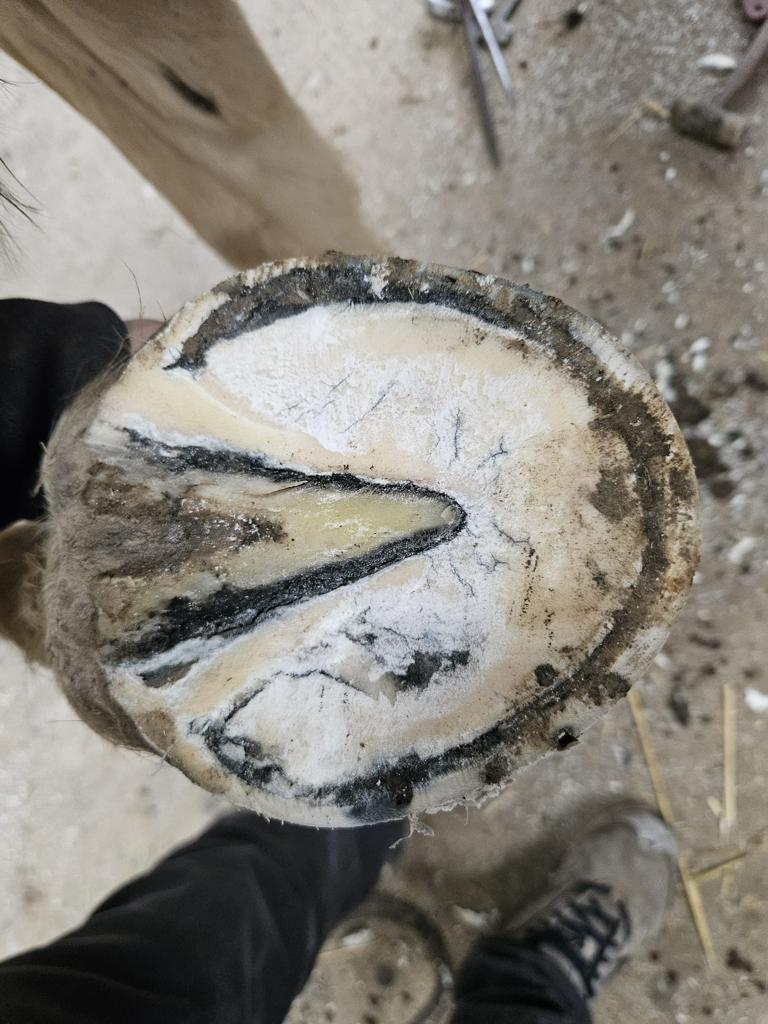horsesole: (79, 256, 702, 833)
